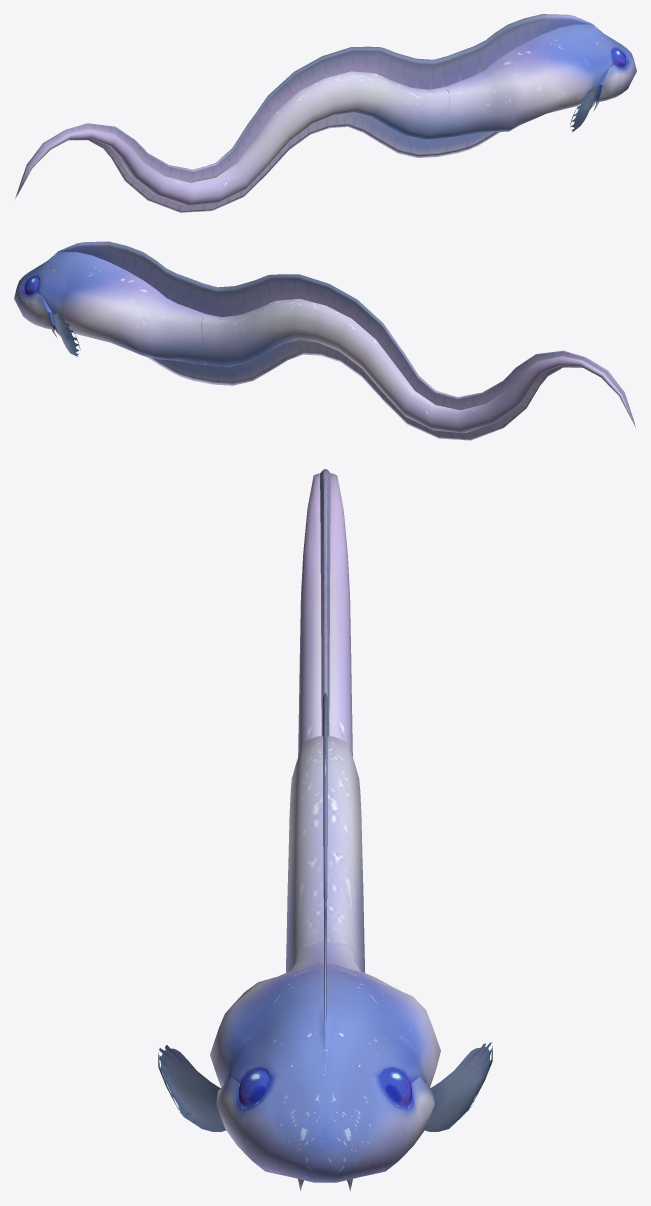
File: Snailfish_posed.FBX
The picture shows the model from 3 angles, top to bottom: view 1: azimuth 30°, elevation 25°; view 2: azimuth 150°, elevation 25°; view 3: azimuth 270°, elevation 25°; orthographic projection. The views are drawn at different scales.
Parts seen in each view (by area): view 1: Plane002; view 2: Plane002; view 3: Plane002.
Boxes of the visible parts, x1=… form: Plane002: x1=14, y1=14, x2=636, y2=212; Plane002: x1=14, y1=241, x2=635, y2=440; Plane002: x1=158, y1=469, x2=492, y2=1191.
Bounding box in the file's own units: 534 × 109 × 125.
Materials: 1 (1 with a texture image).
